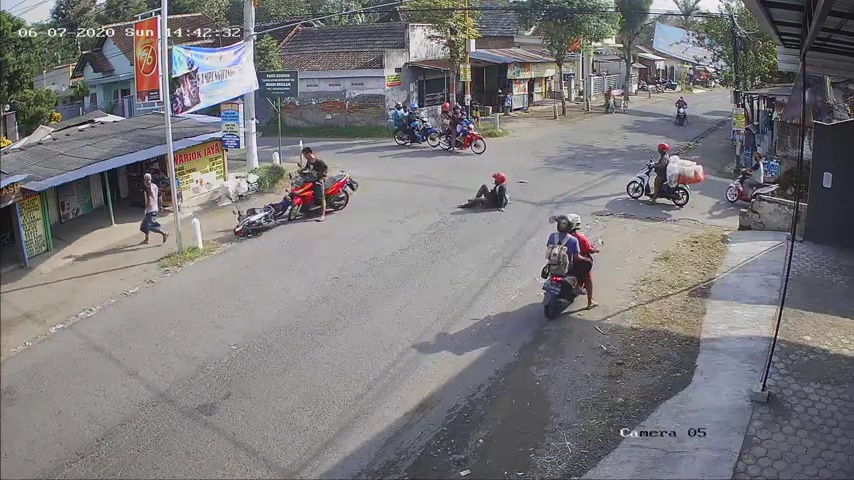motorbike: (543, 211, 598, 320), (292, 145, 352, 220), (631, 143, 694, 209), (726, 151, 776, 211), (437, 101, 484, 152), (391, 104, 441, 149), (675, 96, 687, 129)
